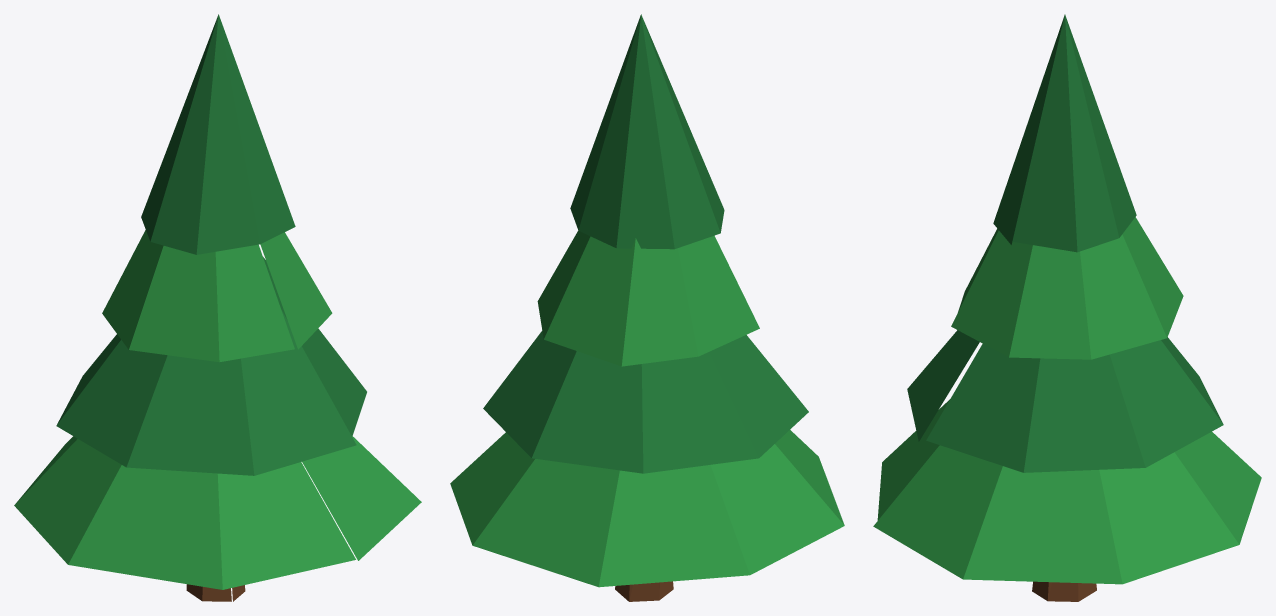
The model's file is pino_v2.glb.
3 views of the same model, side by side, from view 1: azimuth 30°, elevation 25°; view 2: azimuth 150°, elevation 25°; view 3: azimuth 270°, elevation 25° (orthographic).
Parts seen in each view (by area): view 1: copa_1, copa_2, copa_3, copa_4, tronco; view 2: copa_1, copa_2, copa_3, copa_4, tronco; view 3: copa_1, copa_2, copa_3, copa_4, tronco.
Boxes of the visible parts, left/top/right/bottom form: copa_1: left=14, top=436, right=421, bottom=589; copa_2: left=56, top=257, right=366, bottom=475; copa_3: left=102, top=230, right=332, bottom=362; copa_4: left=141, top=14, right=295, bottom=254; tronco: left=186, top=584, right=245, bottom=601; copa_1: left=450, top=430, right=844, bottom=587; copa_2: left=483, top=331, right=808, bottom=473; copa_3: left=537, top=230, right=759, bottom=366; copa_4: left=570, top=14, right=724, bottom=249; tronco: left=615, top=581, right=673, bottom=601; copa_1: left=873, top=399, right=1261, bottom=584; copa_2: left=907, top=330, right=1223, bottom=472; copa_3: left=951, top=217, right=1183, bottom=359; copa_4: left=993, top=14, right=1136, bottom=252; tronco: left=1032, top=581, right=1096, bottom=601.
Bounding box in the file's own units: 4.07 × 6.6 × 4.02.
